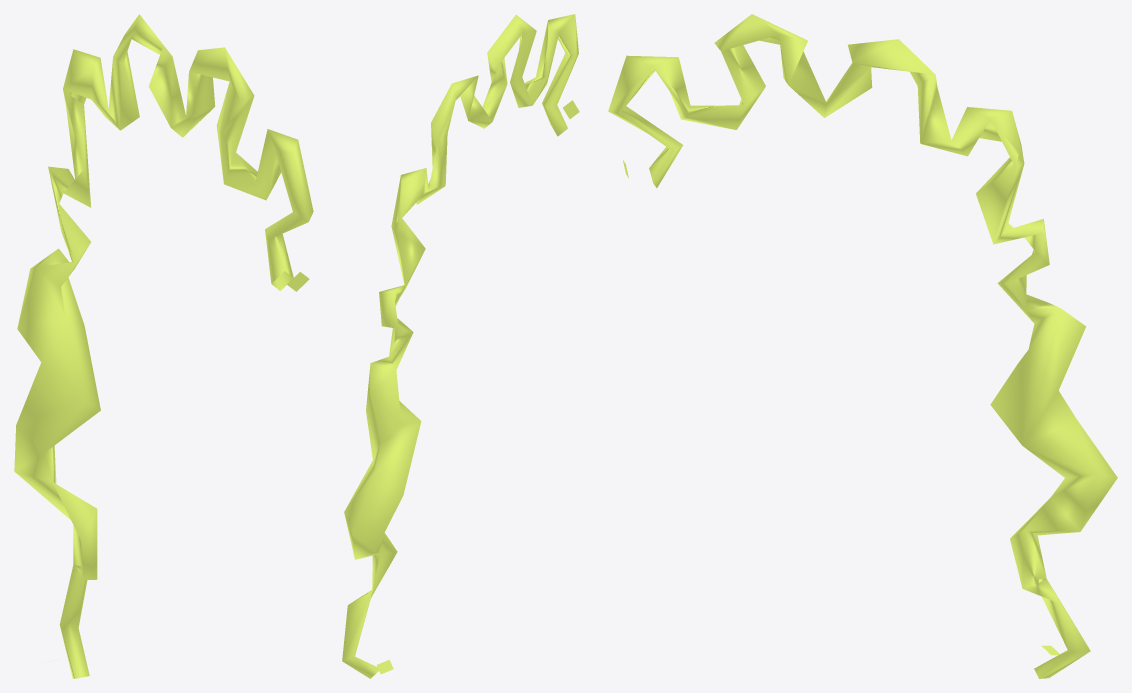
Rendered from caballo-005.gltf.
3 renders of one model, left to right at view 1: azimuth 30°, elevation 25°; view 2: azimuth 150°, elevation 25°; view 3: azimuth 270°, elevation 25°, orthographic. The views are drawn at different scales.
Visible parts, largest first — view 1: Caballo-f.005; view 2: Caballo-f.005; view 3: Caballo-f.005.
Boxes of the visible parts, x1=… form: Caballo-f.005: x1=14, y1=14, x2=313, y2=678; Caballo-f.005: x1=342, y1=14, x2=579, y2=678; Caballo-f.005: x1=608, y1=14, x2=1117, y2=678.
Bounding box in the file's own units: 0.0512 × 0.507 × 0.3574.
Materials: 1 (1 with a texture image).
